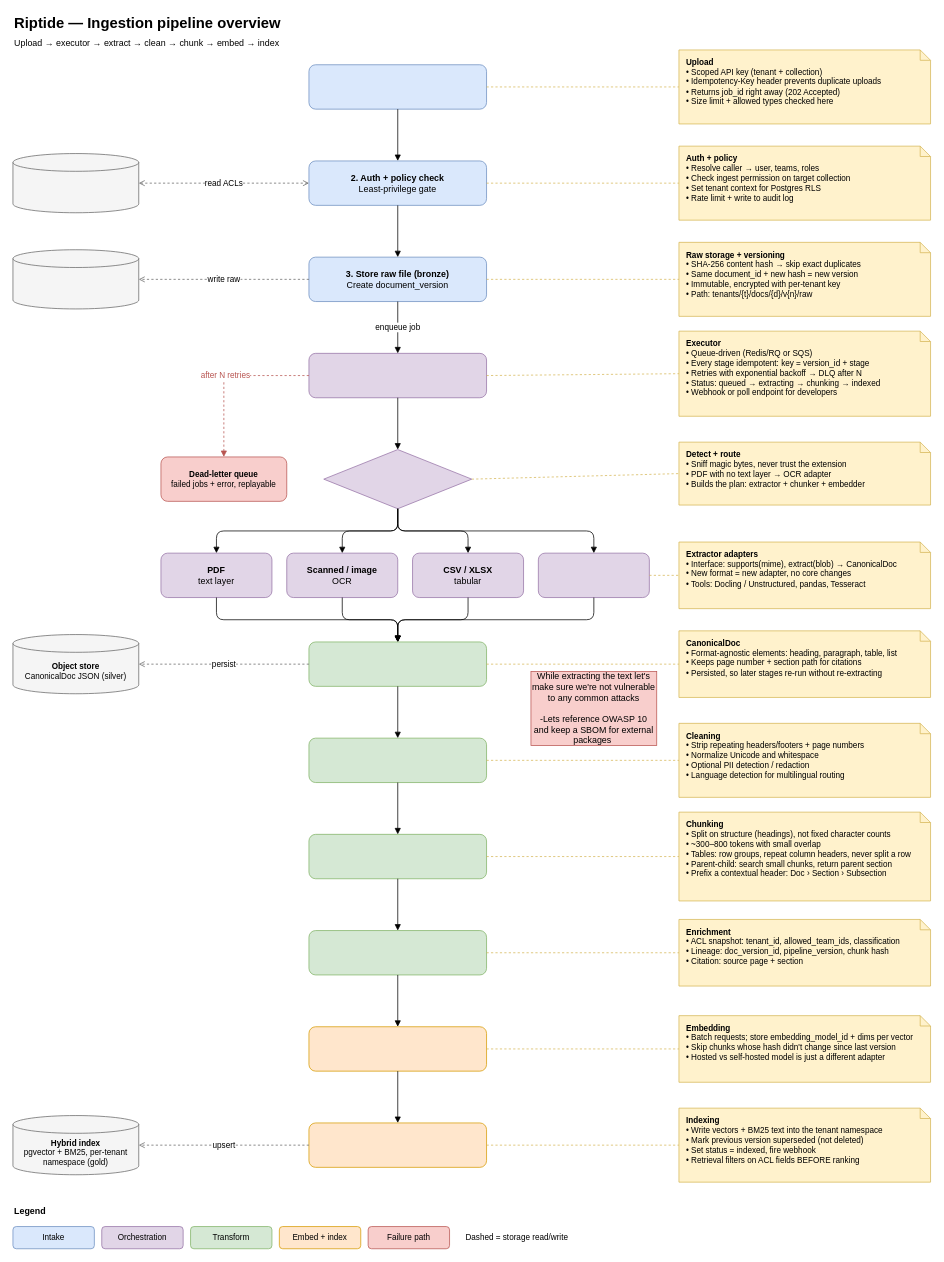
Some shapes in this 944 by 1262 pixel diagram are drawn without their labels. Each missing label, with the centre of its shape:
1. Upload API / SDK / Web UI: (x=397, y=86)
10. Embed Swappable embedder adapter: (x=397, y=1048)
11. Index (gold) Vectors + BM25: (x=397, y=1144)
4. Executor / orchestrator Runs the pipeline plan: (x=397, y=375)
5. Detect type + route: (x=397, y=479)
6. CanonicalDoc (silver) Common document model: (x=397, y=663)
7. Clean + normalize: (x=397, y=760)
8. Chunk Structure-aware strategy: (x=397, y=856)
9. Enrich metadata ACLs, lineage, citations: (x=397, y=952)
DOCX / HTML / MD rich text: (x=593, y=575)
Object store raw files (bronze): (x=75, y=279)
Postgres metadata, ACLs, versions (RLS): (x=75, y=183)
